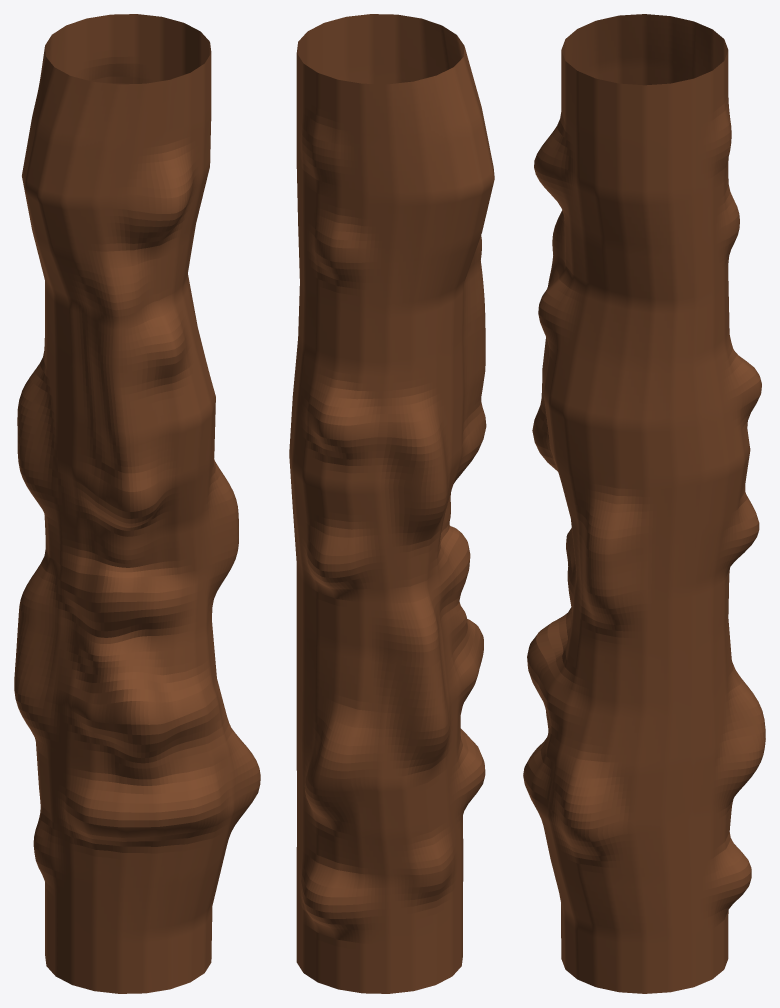
File: structure_columnsmall.fbx
3 views of the same model, side by side, from view 1: azimuth 30°, elevation 25°; view 2: azimuth 150°, elevation 25°; view 3: azimuth 270°, elevation 25° (orthographic).
Visible parts, largest first — view 1: columnsmall_LOD0; view 2: columnsmall_LOD0; view 3: columnsmall_LOD0.
Part boxes in pixels (x1,y1,x2,y2): columnsmall_LOD0: (14,14,260,993); columnsmall_LOD0: (289,14,494,993); columnsmall_LOD0: (523,14,765,993).
Size of what is drawn, in the model's own units: 69.8 by 300 by 72.62.
